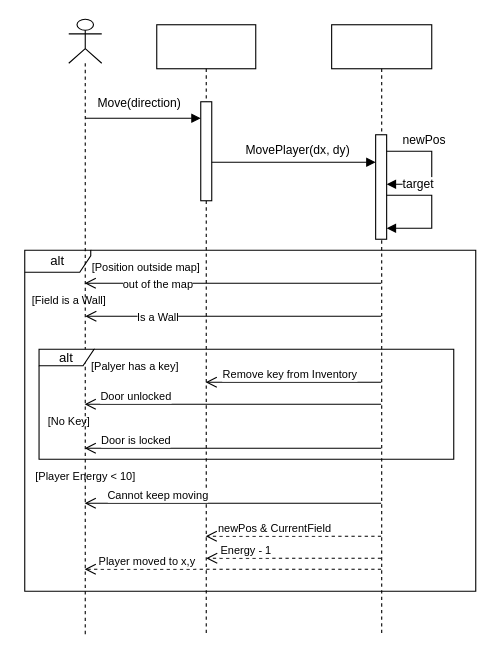
This 495x655 diagram has some shape labels left out. Each missing label, with the box of its shape:
:Player: (156, 24, 256, 635)
:PlayField: (331, 24, 432, 635)
